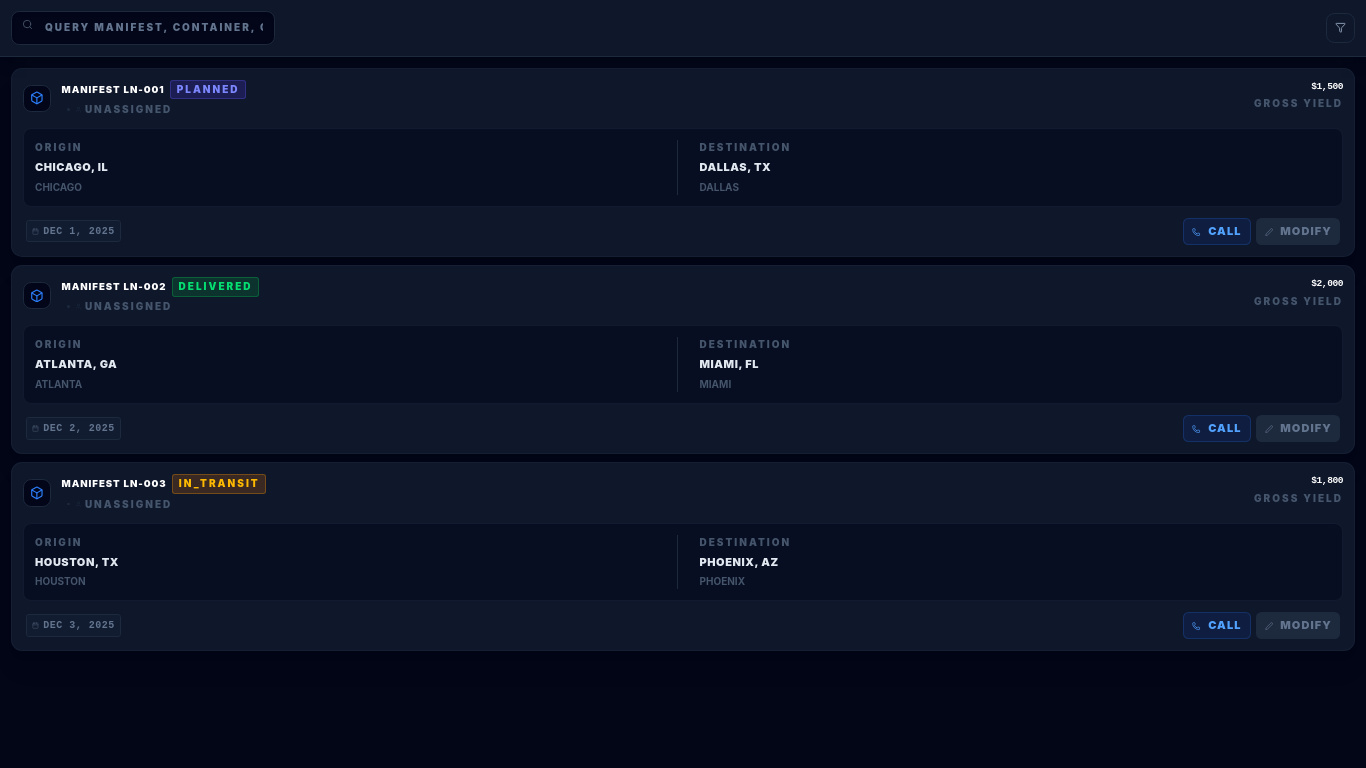
Test case: LoadList component › shows no loads message when search matches nothing (line 100)
This screenshot has width=1366, height=768.
Type "NONEXISTENT_LOAD_XYZ" into the field at coordinates (143, 28), box [11, 11, 275, 44]
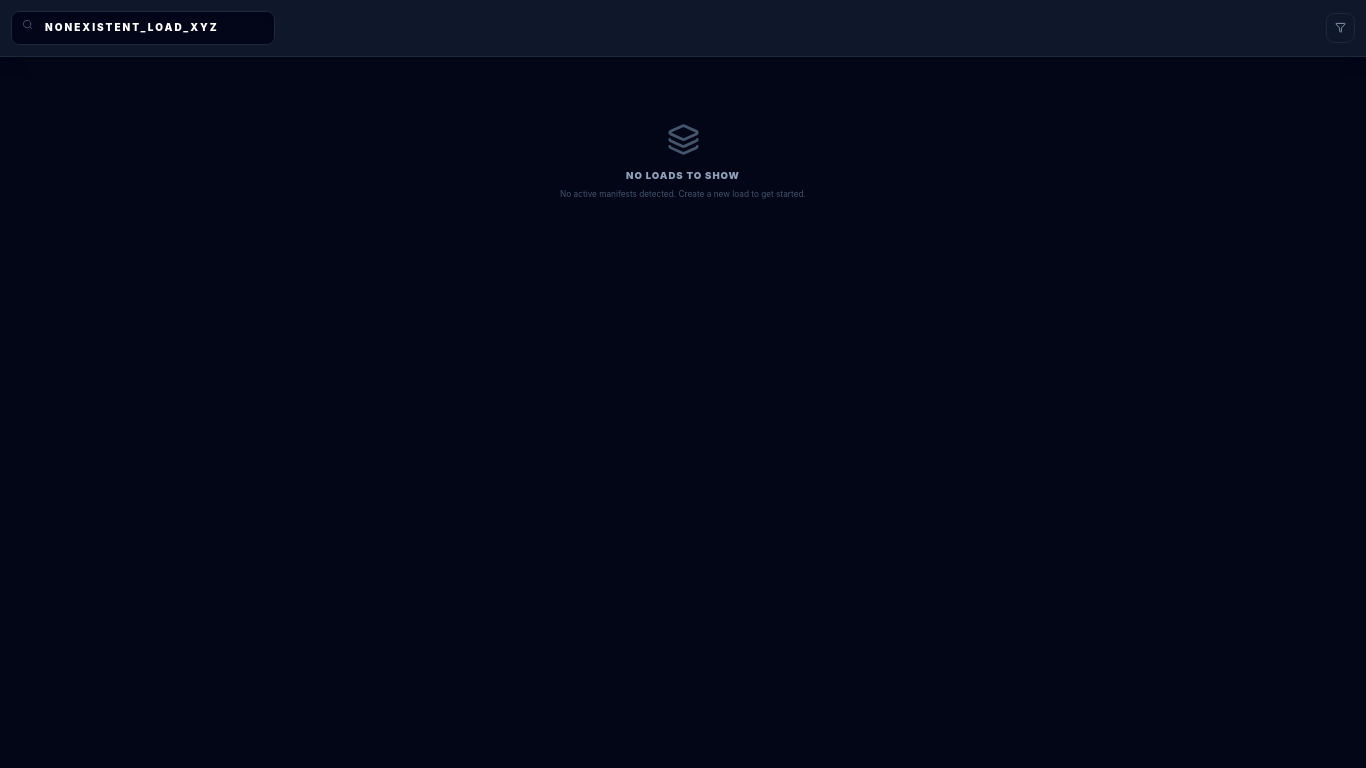
Now the heading "No loads to show" is shown, box [626, 170, 740, 181]
